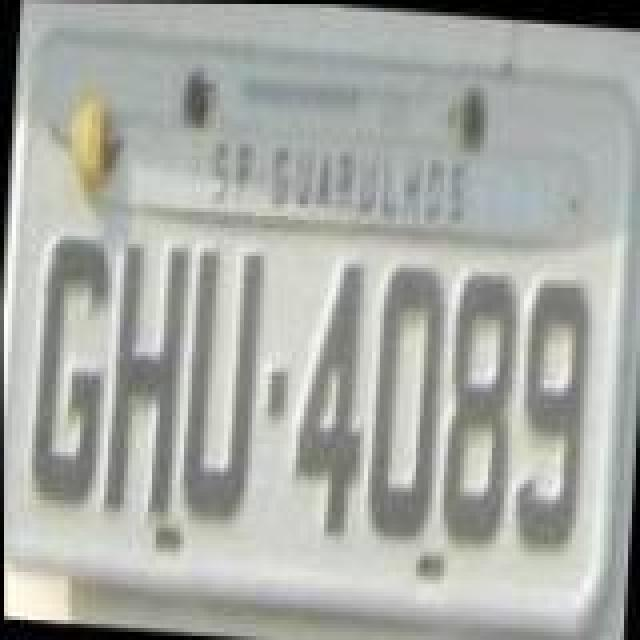4: (286, 254, 374, 538)
8: (436, 262, 520, 550)
9: (510, 272, 598, 556)
G: (26, 228, 114, 508)
H: (100, 234, 192, 522)
O: (360, 256, 444, 544)
U: (172, 240, 264, 524)
